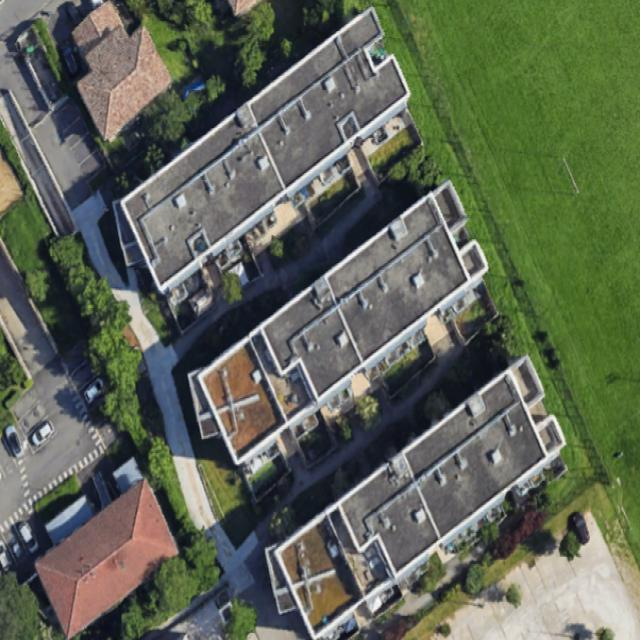immeuble: (175, 175, 519, 483), (99, 6, 434, 299), (252, 354, 587, 639)
